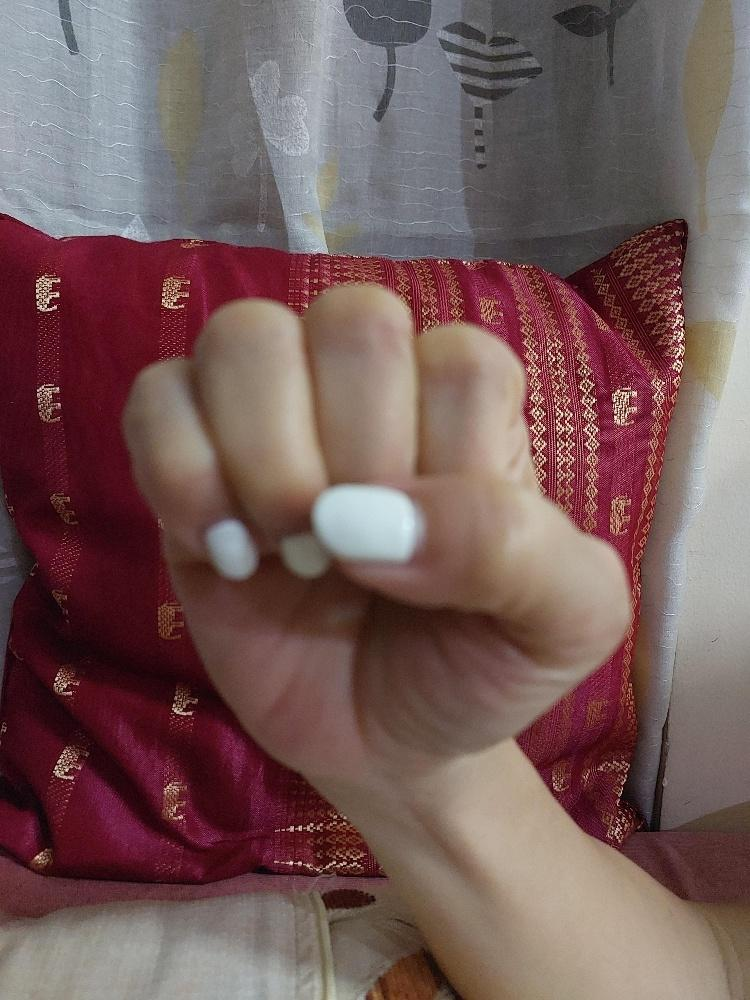s: (120, 274, 631, 783)
